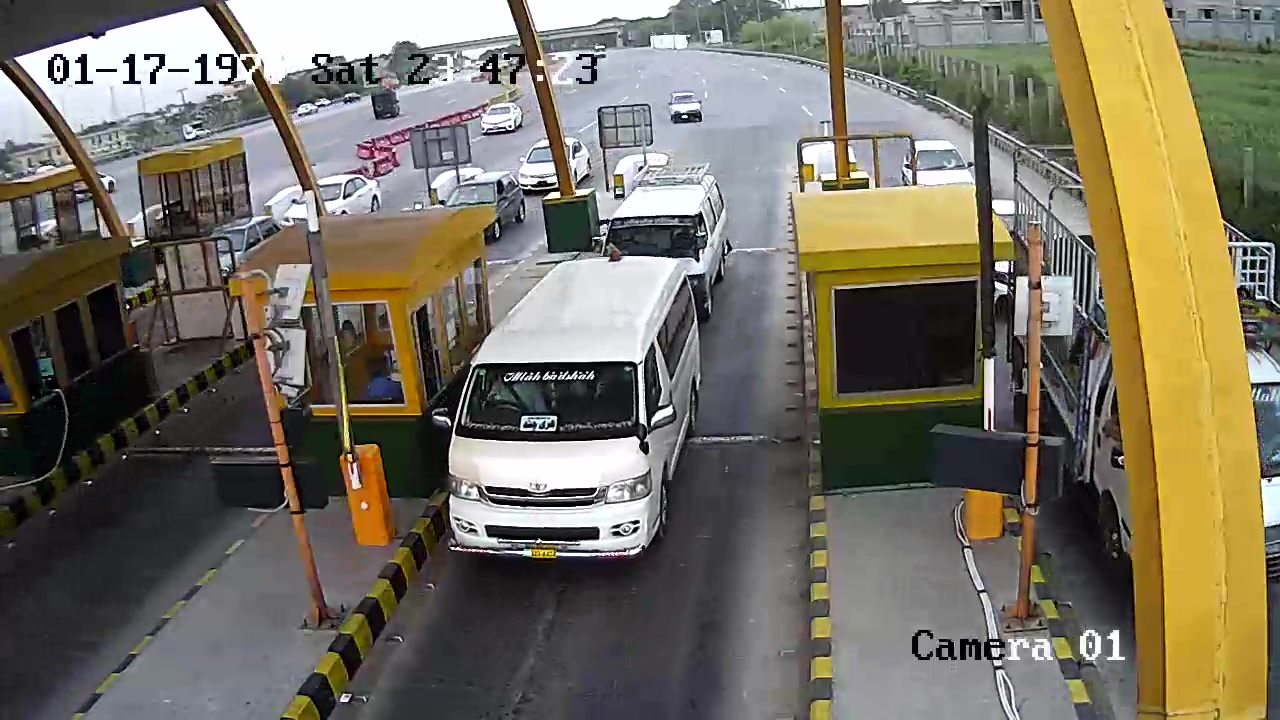F2: (443, 249, 698, 570)
